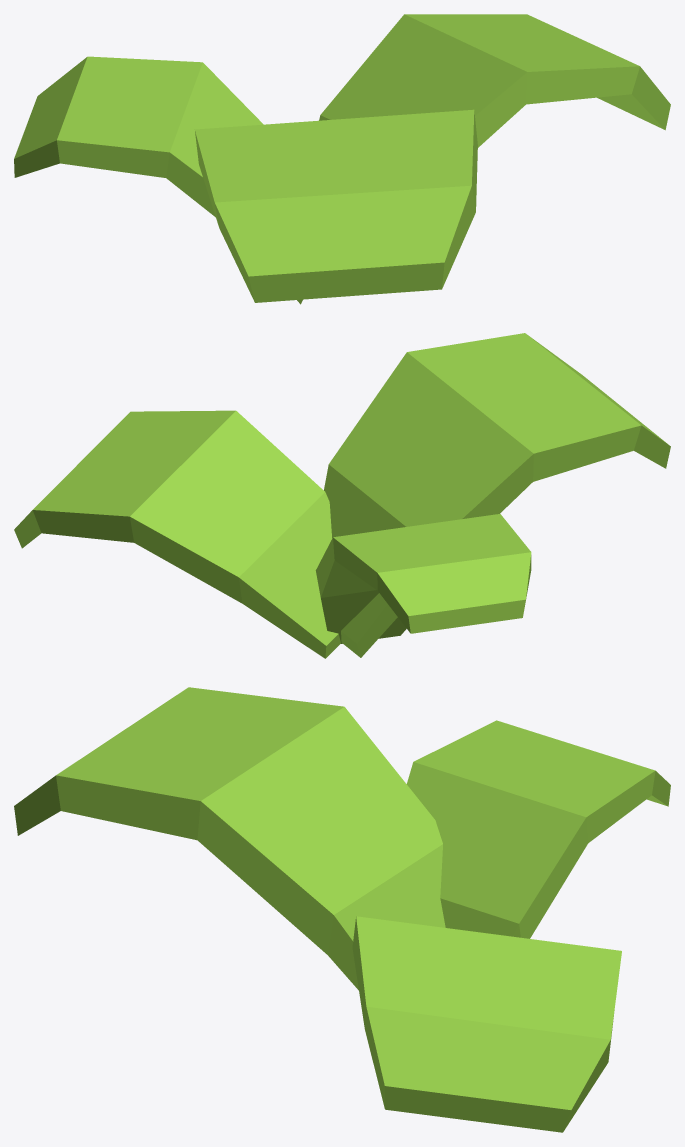
The model's file is rumputbesar1.fbx.
The picture shows the model from 3 angles, top to bottom: view 1: azimuth 30°, elevation 25°; view 2: azimuth 150°, elevation 25°; view 3: azimuth 270°, elevation 25°; orthographic projection. The views are drawn at different scales.
Visible parts, largest first — view 1: Plant_3a; view 2: Plant_3a; view 3: Plant_3a.
Boxes of the visible parts, x1,y1,x2,y2 form: Plant_3a: (14,14,670,304); Plant_3a: (14,333,670,658); Plant_3a: (14,687,670,1132).
Size of the model in its own units: 105 by 41.9 by 94.8.
